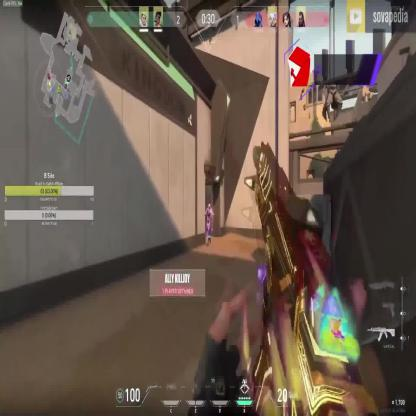enemy: (204, 201, 215, 246)
enemy_head: (208, 203, 211, 210)
